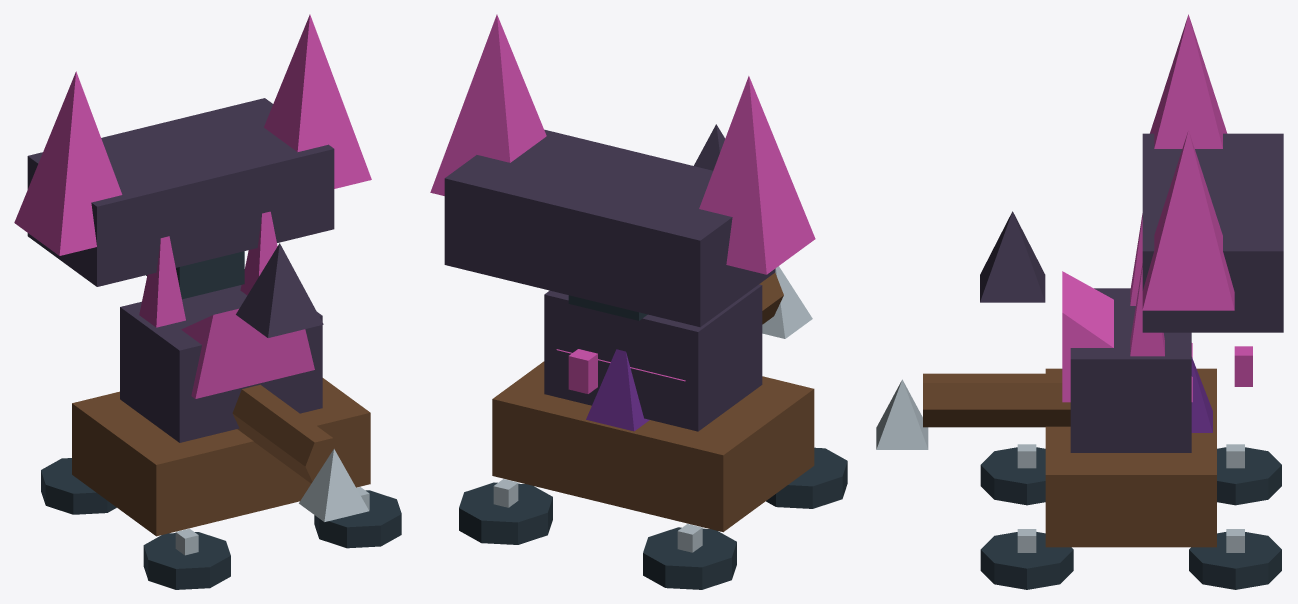
Rendered from legendary-land.obj.
3 renders of one model, left to right at view 1: azimuth 30°, elevation 25°; view 2: azimuth 150°, elevation 25°; view 3: azimuth 270°, elevation 25°, orthographic. The views are drawn at different scales.
Visible parts, largest first — view 1: siege; view 2: siege; view 3: siege.
Part boxes in pixels (x1,y1,x2,y2): siege: (14, 14, 401, 589); siege: (430, 14, 847, 589); siege: (876, 14, 1283, 589).
Size of the model in its own units: 1.79 by 2.46 by 1.99.
